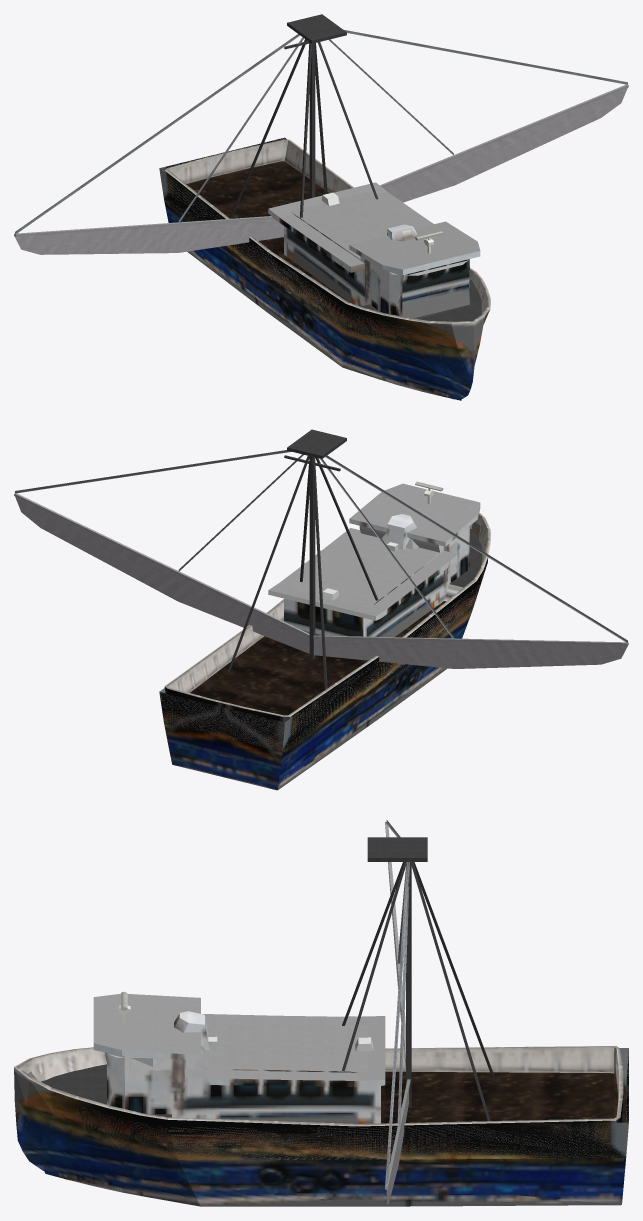
The model's file is Trawler.fbx.
The picture shows the model from 3 angles, top to bottom: view 1: azimuth 30°, elevation 25°; view 2: azimuth 150°, elevation 25°; view 3: azimuth 270°, elevation 25°; orthographic projection. The views are drawn at different scales.
Visible parts, largest first — view 1: Trawler; view 2: Trawler; view 3: Trawler.
Part boxes in pixels (x1,y1,x2,y2): Trawler: (14, 14, 628, 400); Trawler: (14, 429, 628, 790); Trawler: (14, 820, 628, 1206).
Size of the model in its own units: 25.5 by 11.14 by 18.15.
1 material, 1 textured.
